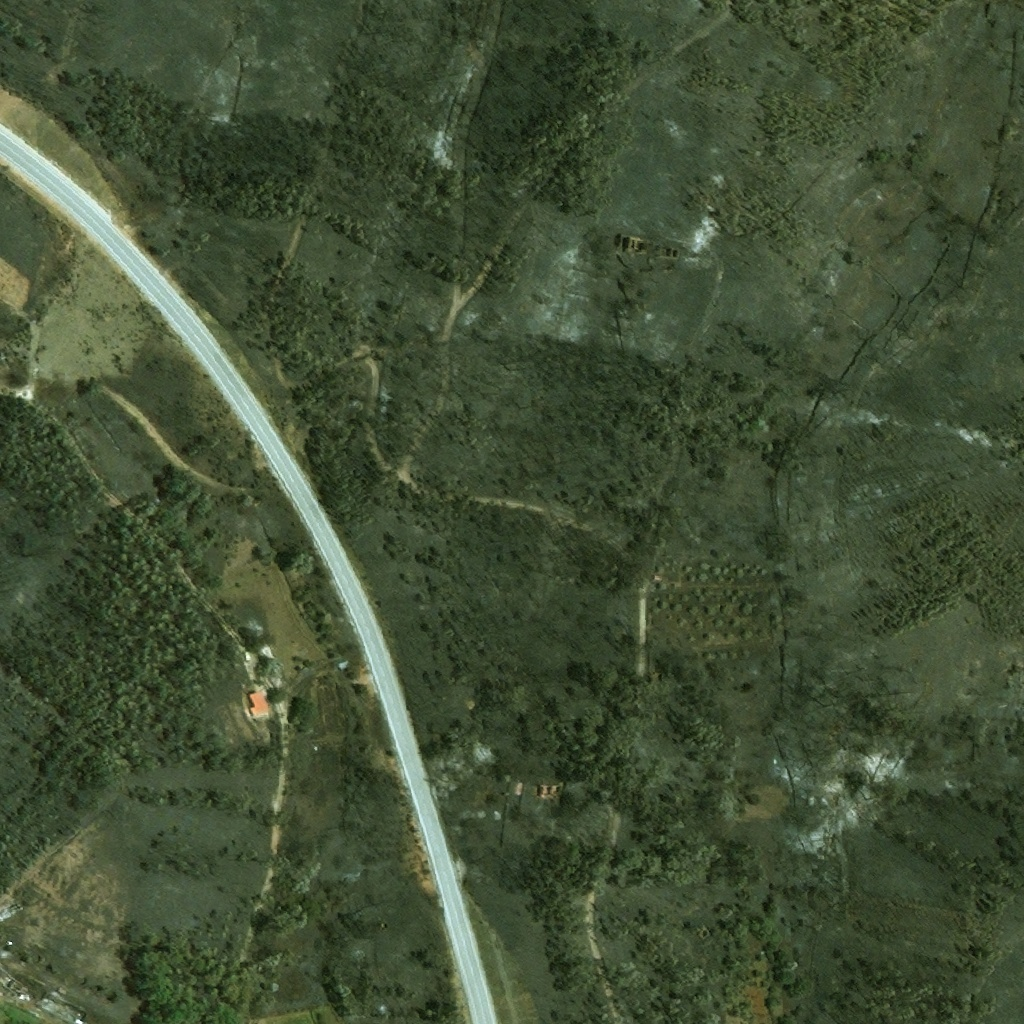0 no-damage: (246, 689, 271, 719)
3 destroyed: (37, 989, 87, 1023), (535, 783, 564, 800), (12, 982, 29, 999), (656, 666, 674, 682), (247, 624, 264, 640), (334, 656, 350, 671), (270, 678, 283, 691), (259, 731, 271, 745), (516, 781, 524, 796), (653, 575, 663, 582), (495, 812, 502, 821)
